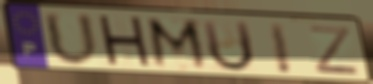H: (95, 13, 155, 71)
I: (266, 21, 295, 76)
M: (144, 16, 213, 74)
U: (41, 10, 102, 69), (200, 19, 258, 75)
Z: (306, 24, 363, 78)
